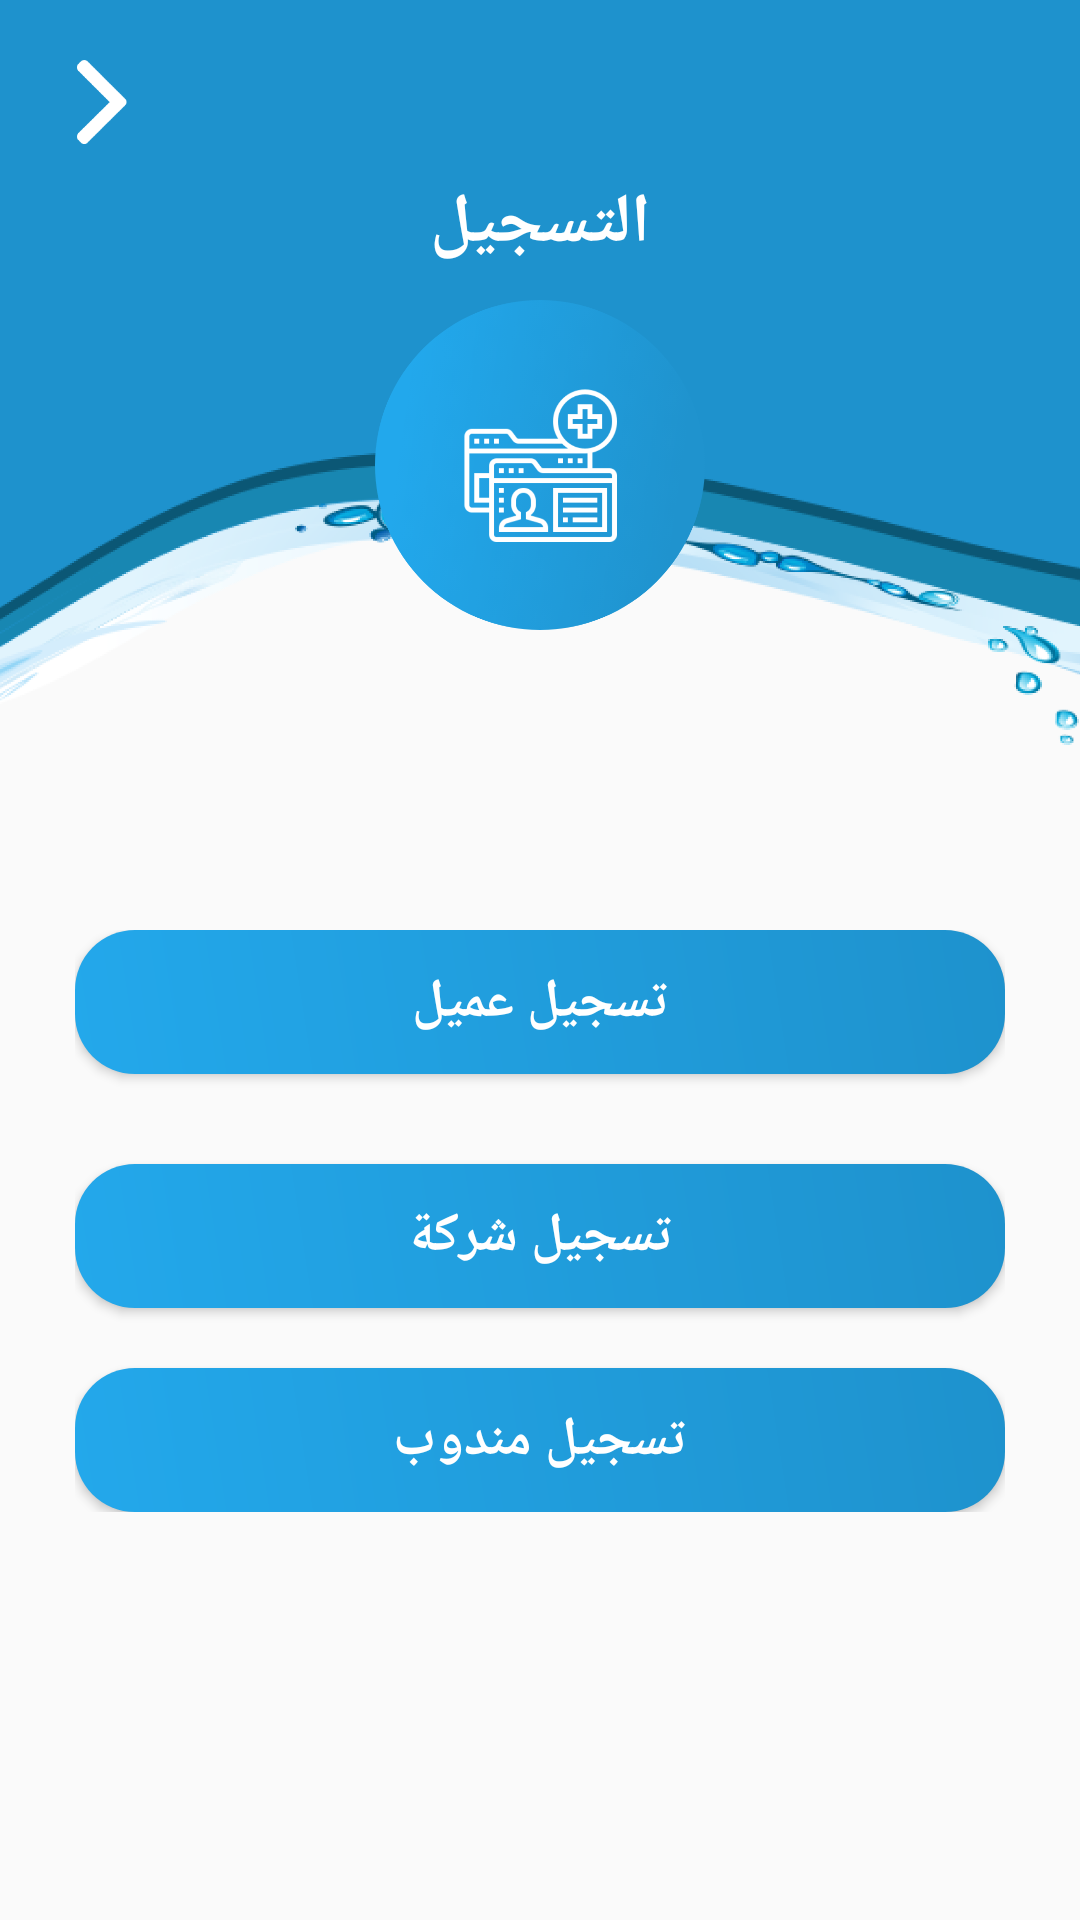

Point at icon controls on the screen. Image size 1080px x 1920px, points as (x,y).
back: (102,102)
